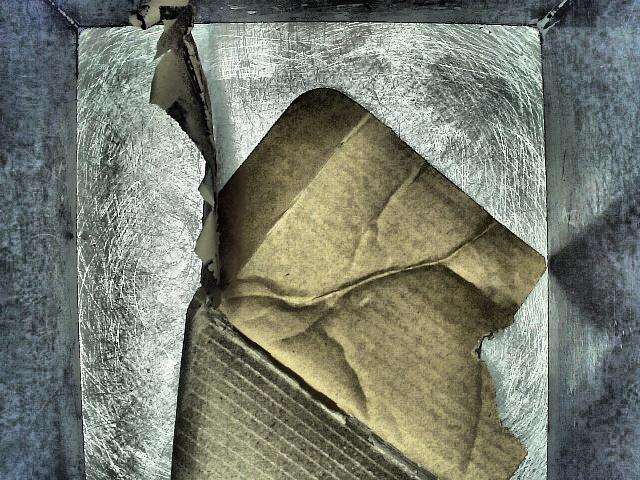Paper: (130, 1, 550, 480)
